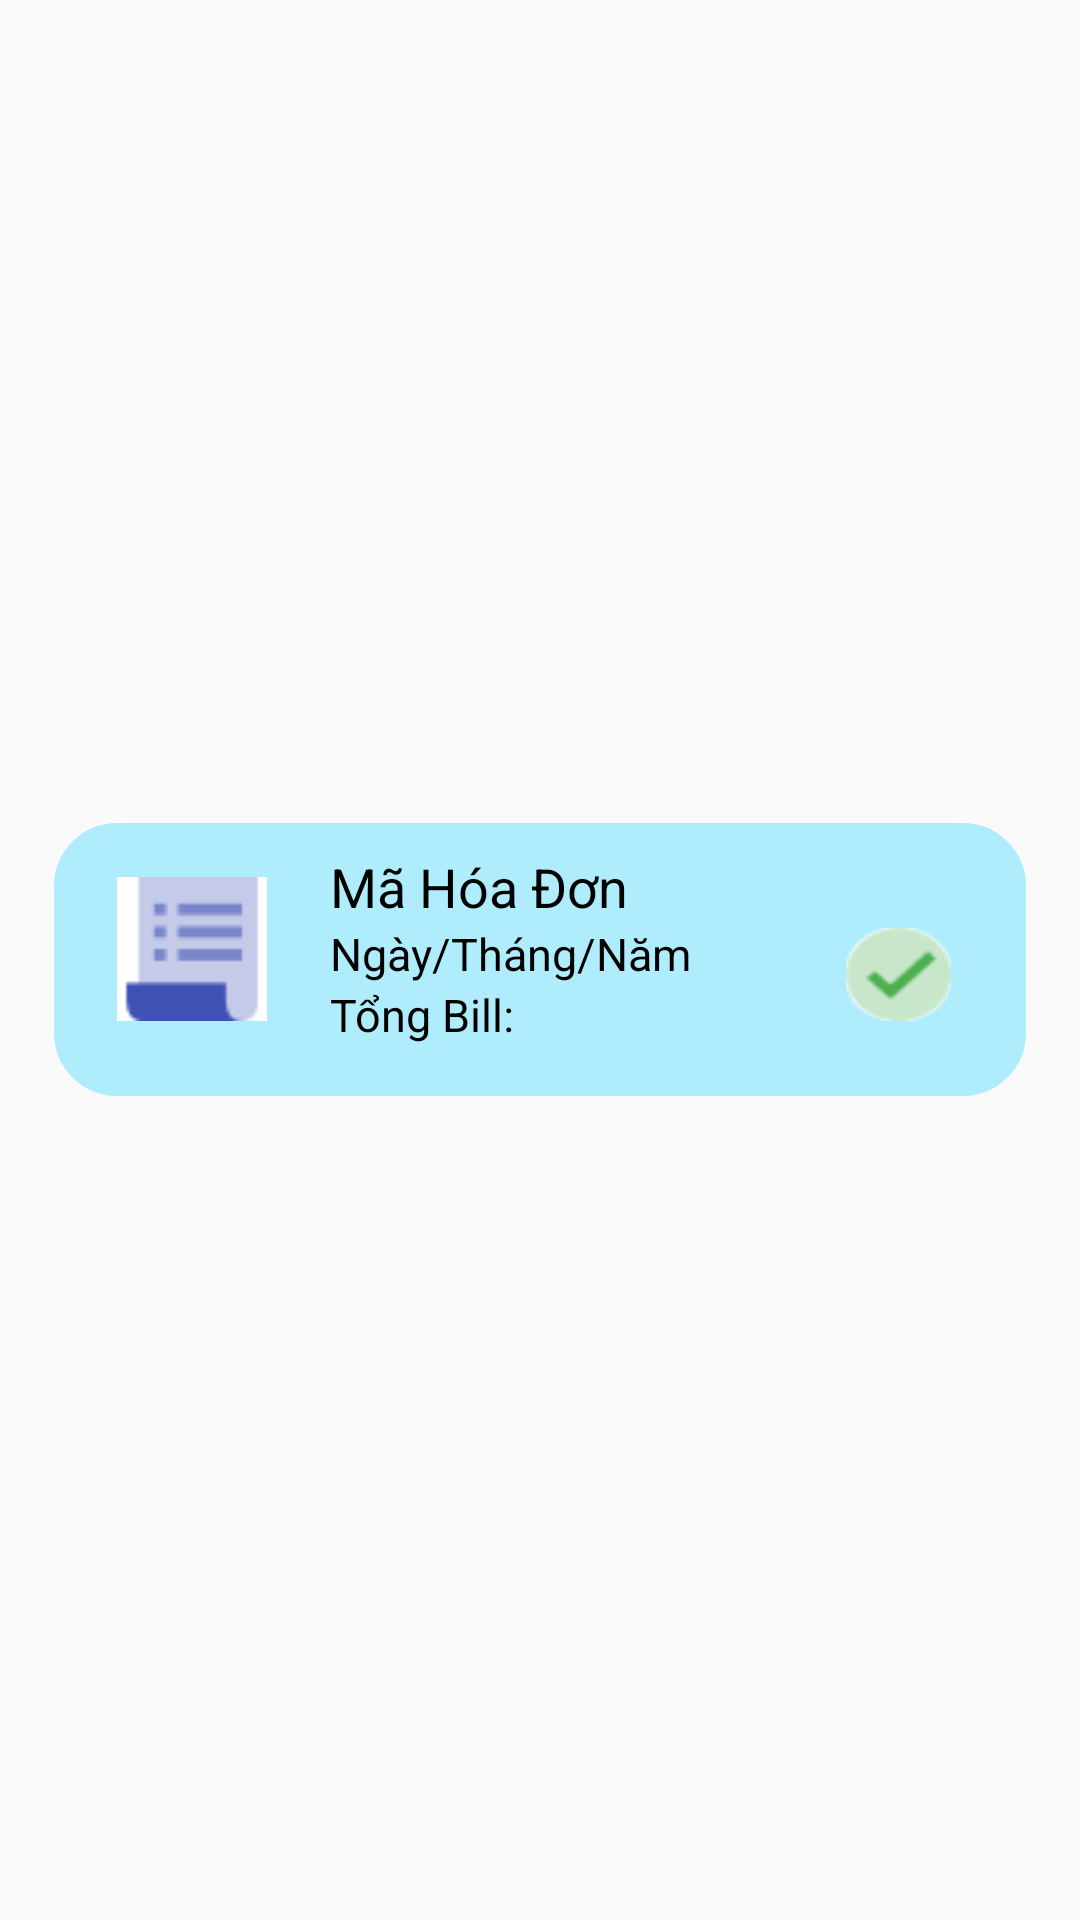

Screen size 1080*1920. Icon name, then its box in pixels as (x1, y1, x2, y2):
tick: (846, 928, 951, 1021)
